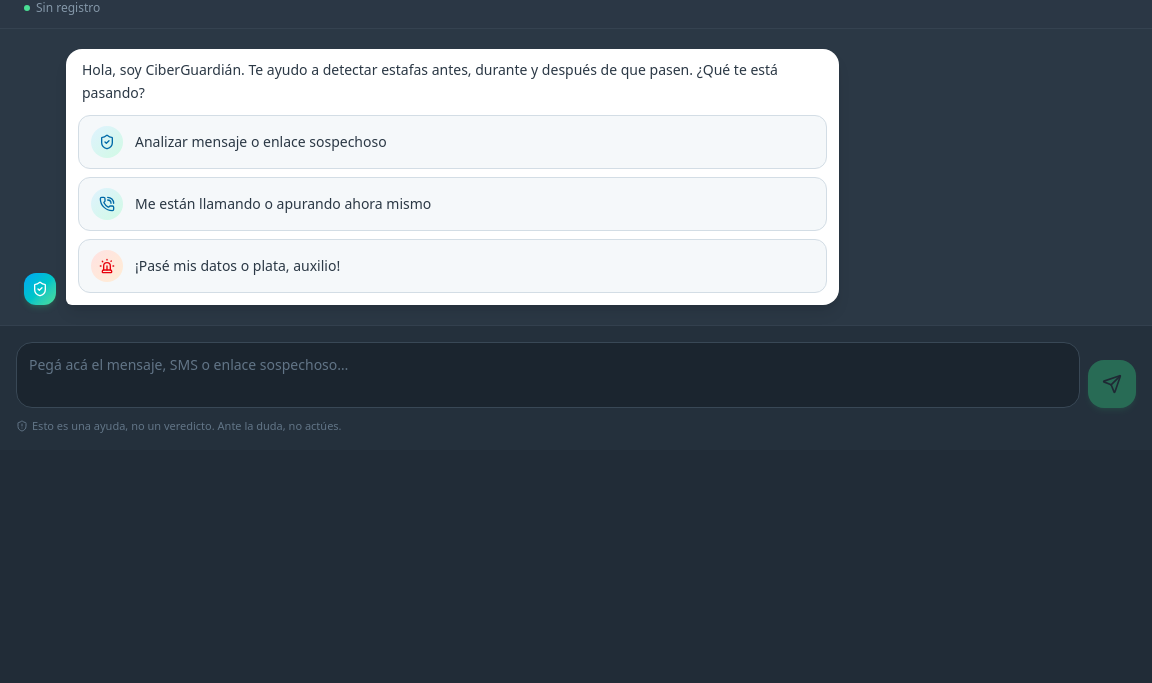
ChatAssistant: preguntas de seguimiento (FH26-57) › si falla, deja una guía en el chat
Type "Banco Formosa: pasame el token urgente" into the text box named "Mensaje sospechoso" at x=548, y=374, box [16, 342, 1080, 408]
Then press Enter
(page scrolled)
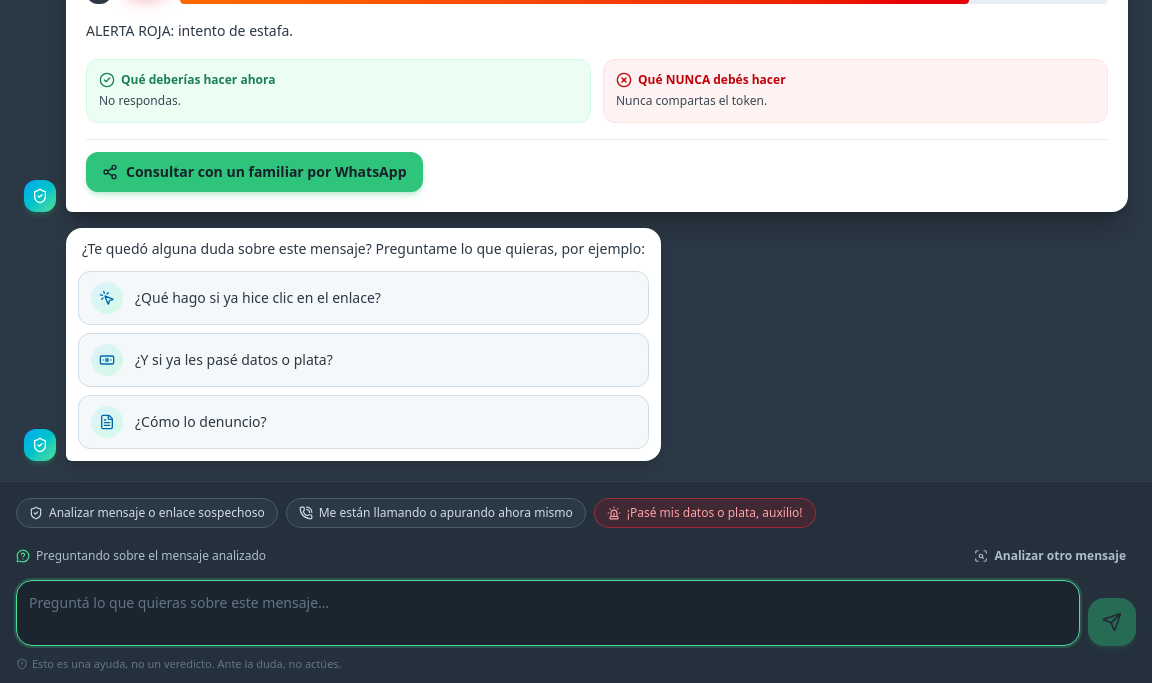
Expected: the text "ALERTA ROJA: intento de estafa." is shown, [86, 21, 293, 40]
Click the button "¿Cómo lo denuncio?" at x=107, y=422, box [78, 395, 649, 449]
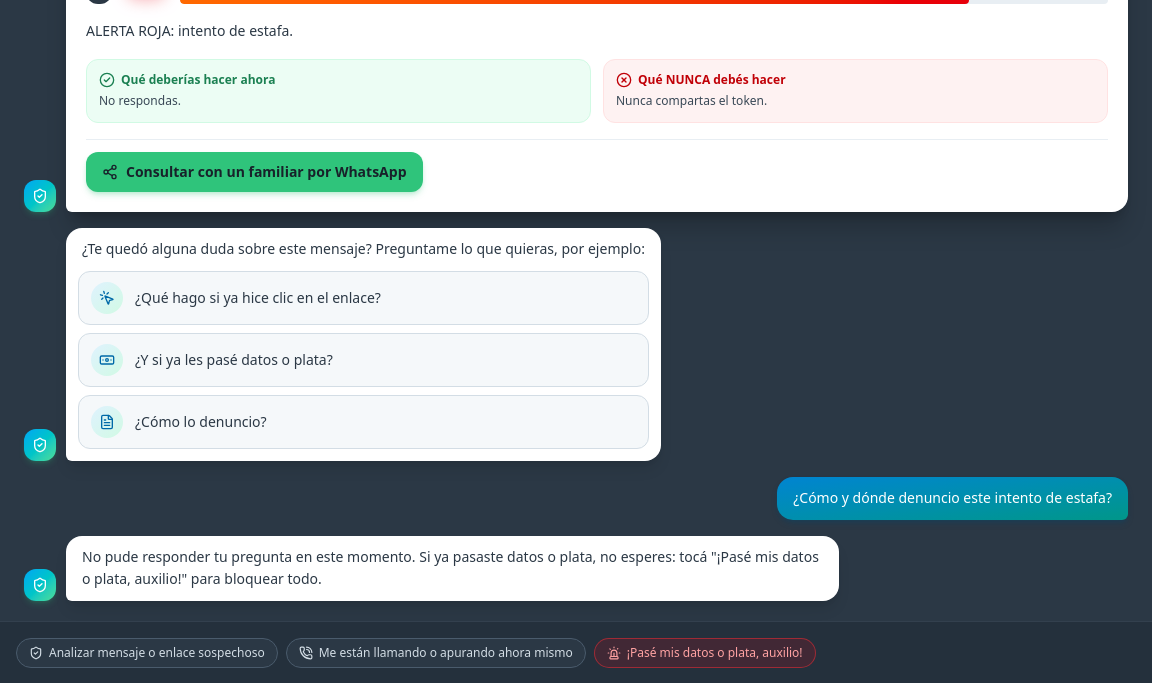
Expected: the text "No pude responder tu pregunta en este momento. Si ya pasaste datos o plata, no esperes: tocá \"¡Pasé mis datos o plata, a" is shown, [82, 546, 822, 588]
